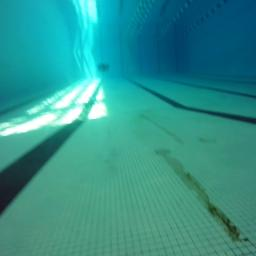Full: (98, 63, 109, 72)
